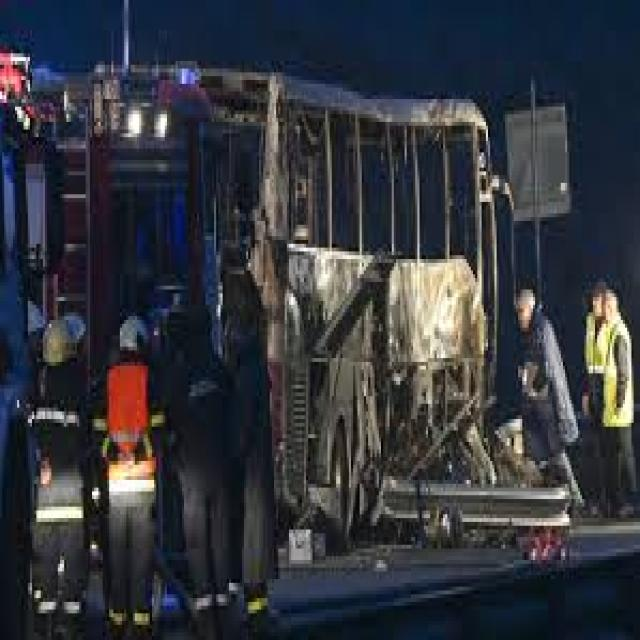Accident: (0, 42, 572, 569)
